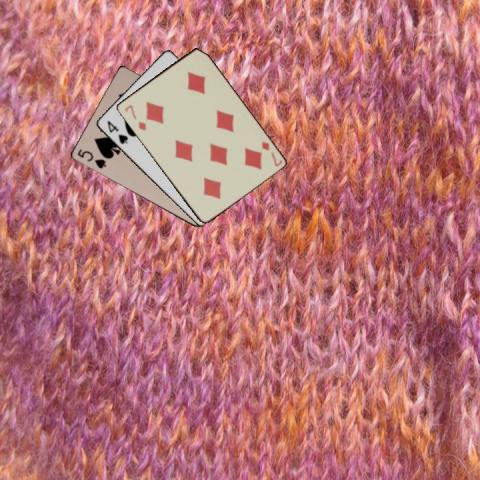4s: (104, 118, 129, 146)
5s: (75, 146, 107, 170)
7d: (122, 102, 148, 132), (259, 138, 283, 168)
